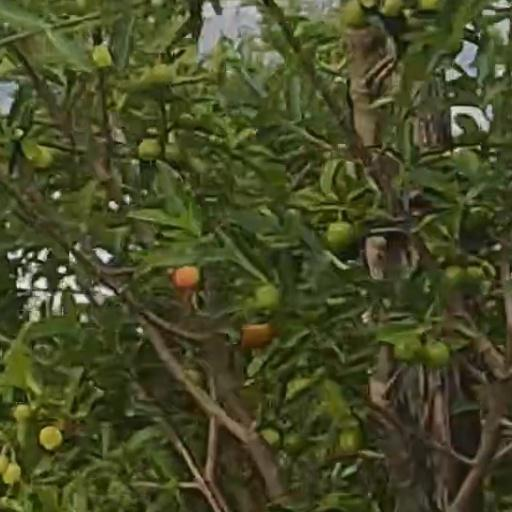acerola: (328, 221, 353, 254), (174, 268, 201, 292), (240, 327, 273, 346), (424, 346, 447, 368)
